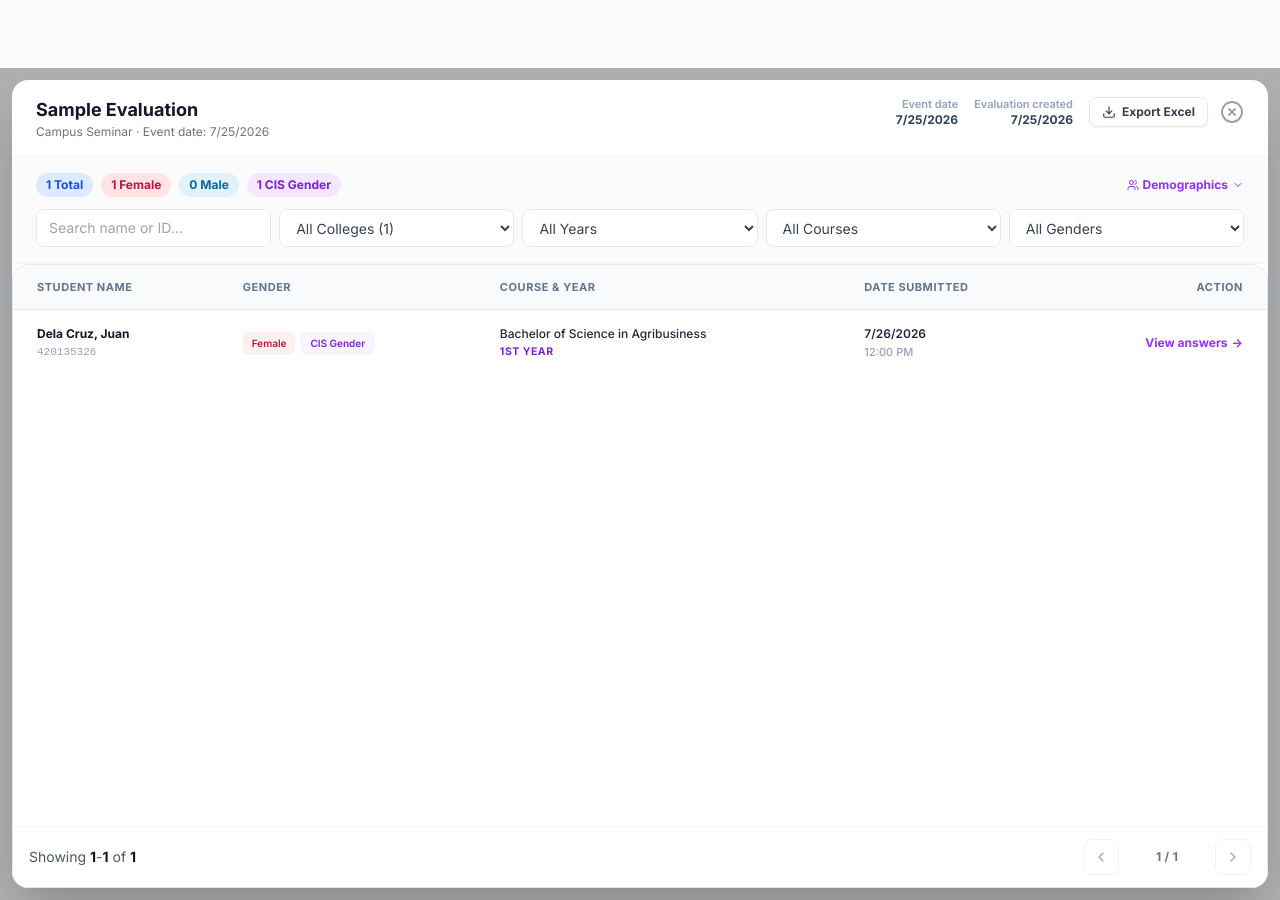
Test: EventEvaluationResultsModal annotations › toggles respondent demographics breakdown panel
The image size is (1280, 900).
Expected: the heading "Sample Evaluation" is shown, [36,99,198,120]
Expected: the text "Sex Assigned at Birth" is not shown
Click the button with aria-label "Respondent Demographics": (1185, 185) [1126,177,1244,193]
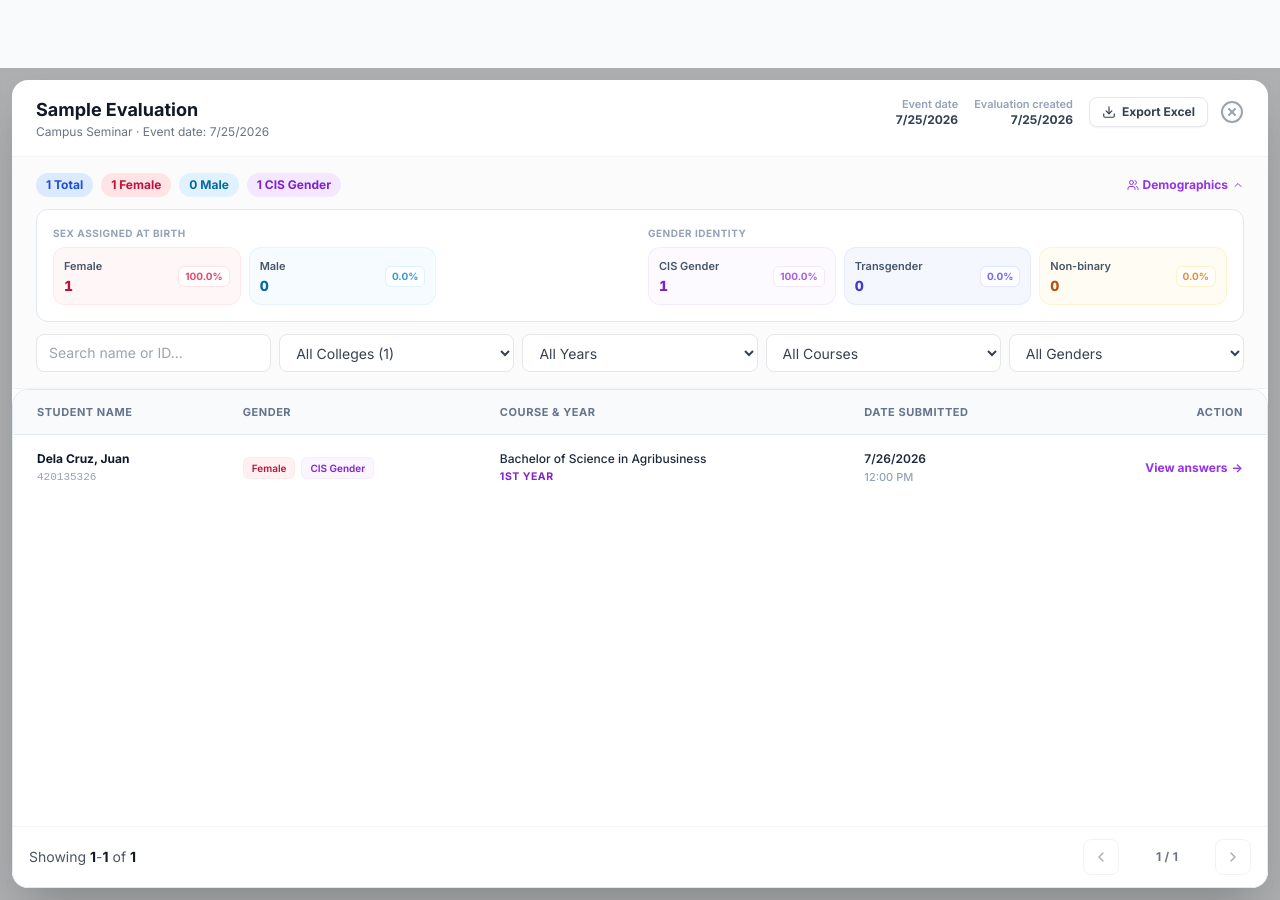
Expected: the text "Sex Assigned at Birth" is shown, [53,227,186,239]
